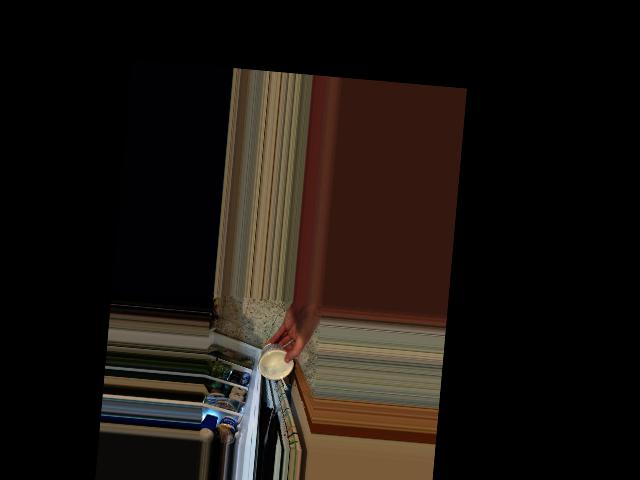cotage: (257, 346, 290, 385)
